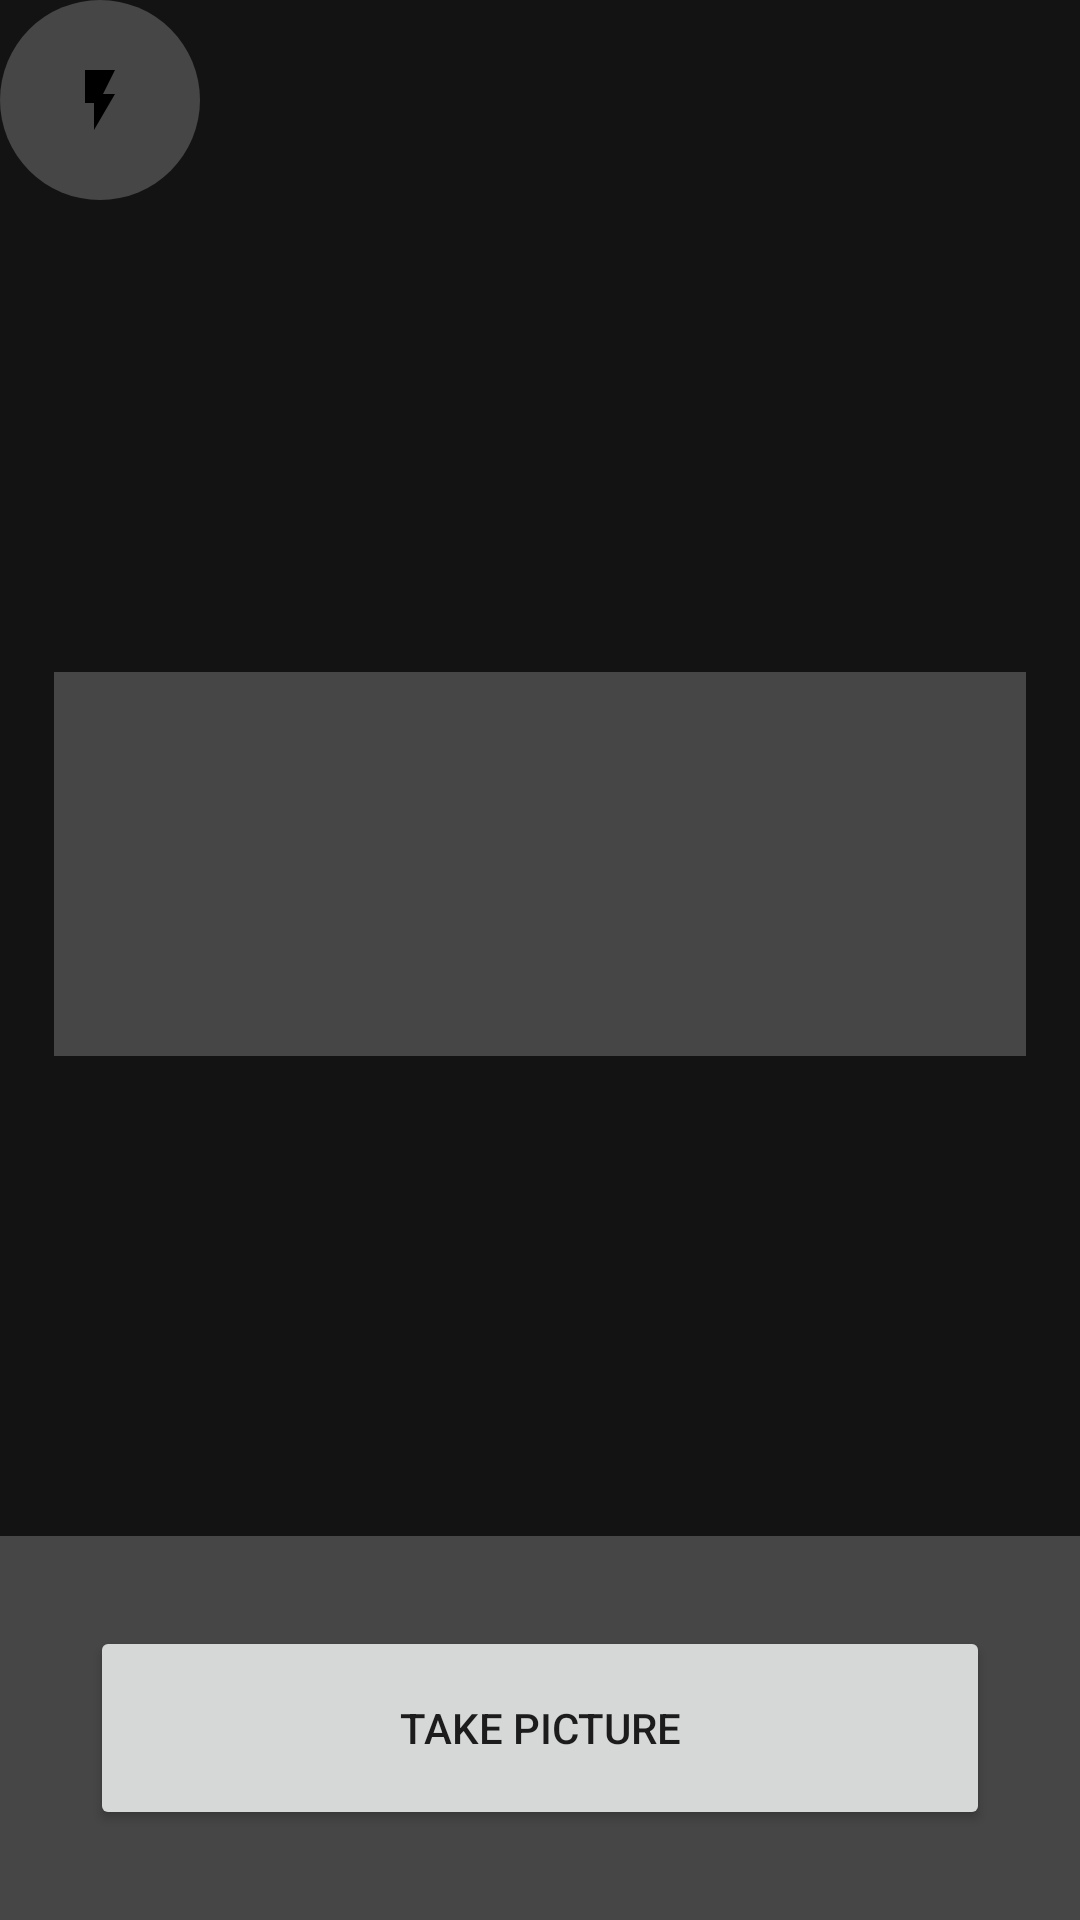

Named icons in this screenshot (1080*1920) and their centers, (x,y):
flash on: (100,100)
